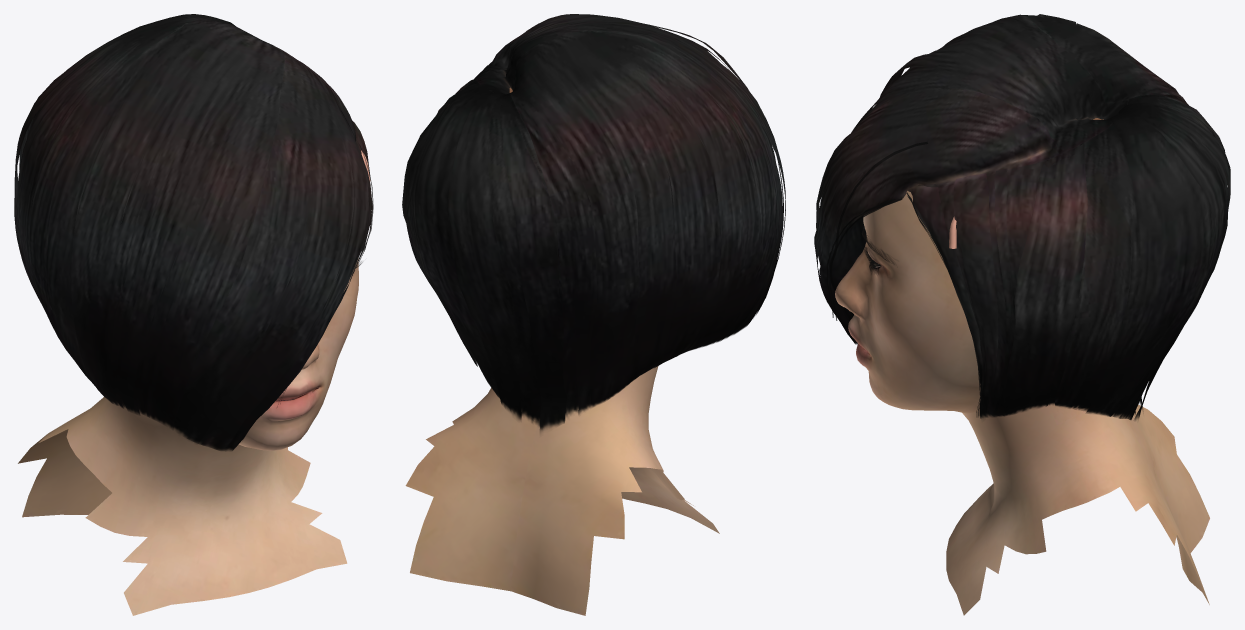
The model's file is patient04.glb.
The picture shows the model from 3 angles, left to right: view 1: azimuth 30°, elevation 25°; view 2: azimuth 150°, elevation 25°; view 3: azimuth 270°, elevation 25°; orthographic projection. The views are drawn at different scales.
Visible parts, largest first — view 1: jung_jakga.bob01, jung_jakga.body; view 2: jung_jakga.bob01, jung_jakga.body; view 3: jung_jakga.bob01, jung_jakga.body.
Boxes of the visible parts, box(x1,y1,x2,y2) form: jung_jakga.bob01: box(14, 14, 373, 451); jung_jakga.body: box(18, 258, 358, 615); jung_jakga.bob01: box(402, 14, 785, 432); jung_jakga.body: box(405, 72, 719, 615); jung_jakga.bob01: box(814, 14, 1230, 420); jung_jakga.body: box(835, 118, 1209, 615).
Size of the model in its own units: 0.2059 by 0.3163 by 0.2261.
Materials: 9 (7 with a texture image).
